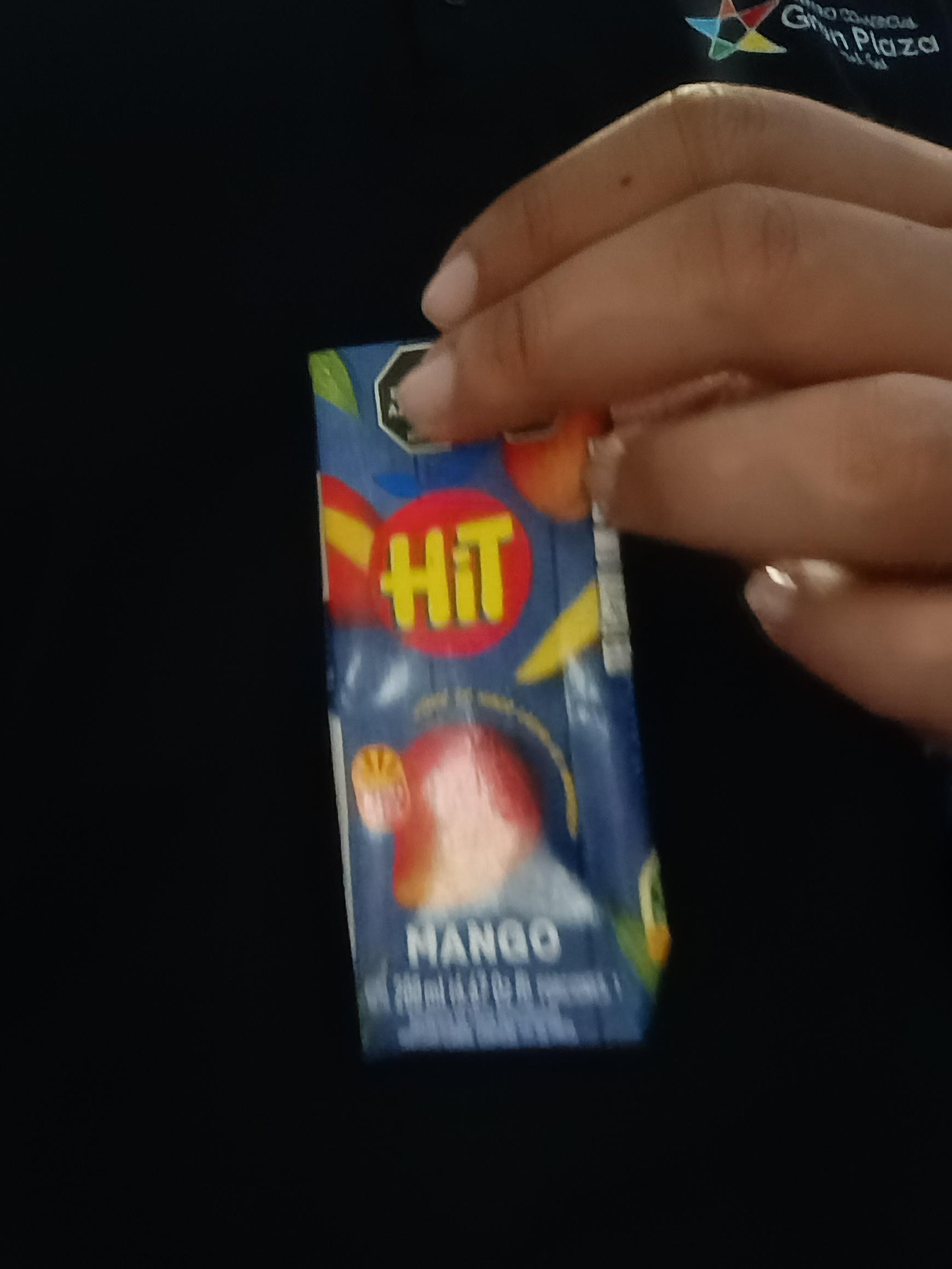Carton: (308, 343, 673, 1060)
